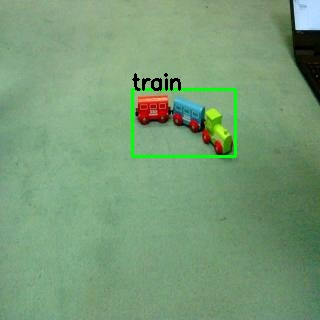train: (133, 94, 237, 163)
